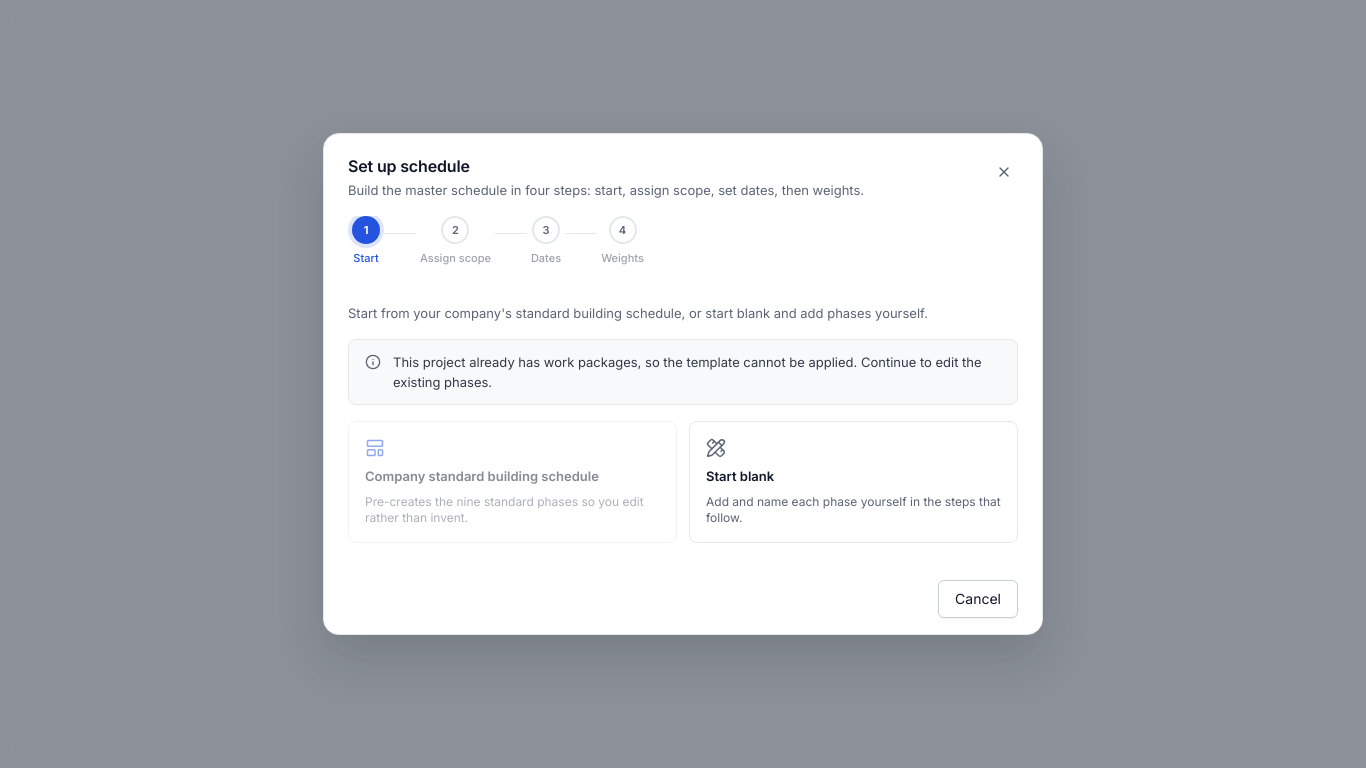
Scenario: ScheduleSetupWizard › confirms all-assigned coverage when every leaf has a phase
Step 1. Click the text "Start blank" → click(740, 476), box left=706, top=466, right=774, bottom=486
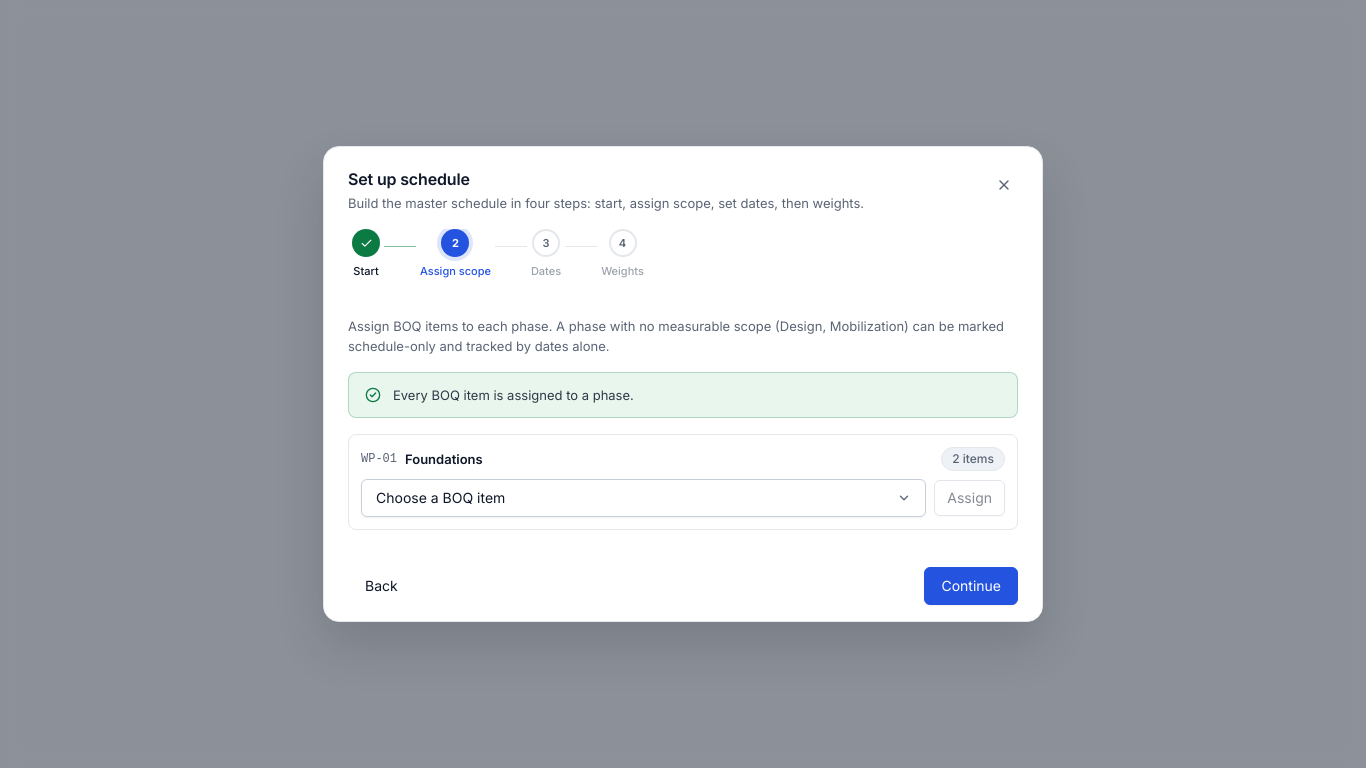
Check: the text "Every BOQ item is assigned to a phase." is shown, box left=393, top=387, right=634, bottom=403
